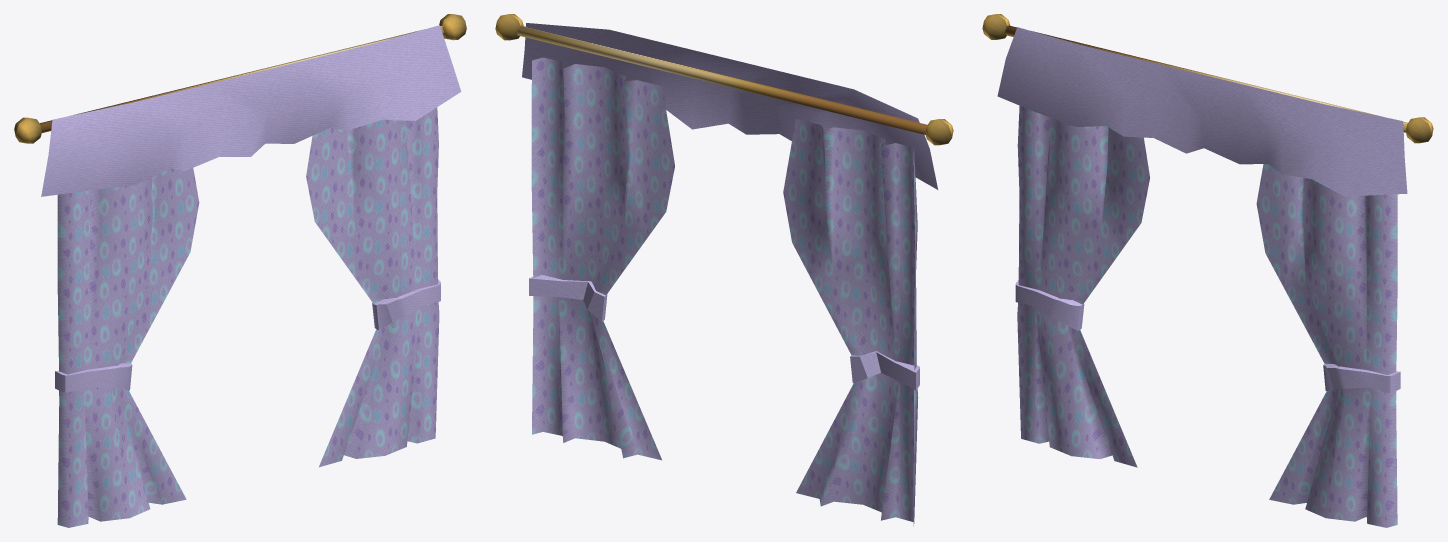
The model's file is Curtains_01_I_2.FBX.
The picture shows the model from 3 angles, left to right: view 1: azimuth 30°, elevation 25°; view 2: azimuth 150°, elevation 25°; view 3: azimuth 330°, elevation 25°; orthographic projection.
Visible parts, largest first — view 1: Curtains_01; view 2: Curtains_01; view 3: Curtains_01.
Part boxes in pixels (x1,y1,x2,y2): Curtains_01: (14,14,466,527); Curtains_01: (495,14,953,526); Curtains_01: (982,14,1433,527).
Size of the model in its own units: 251 by 221 by 25.59.
